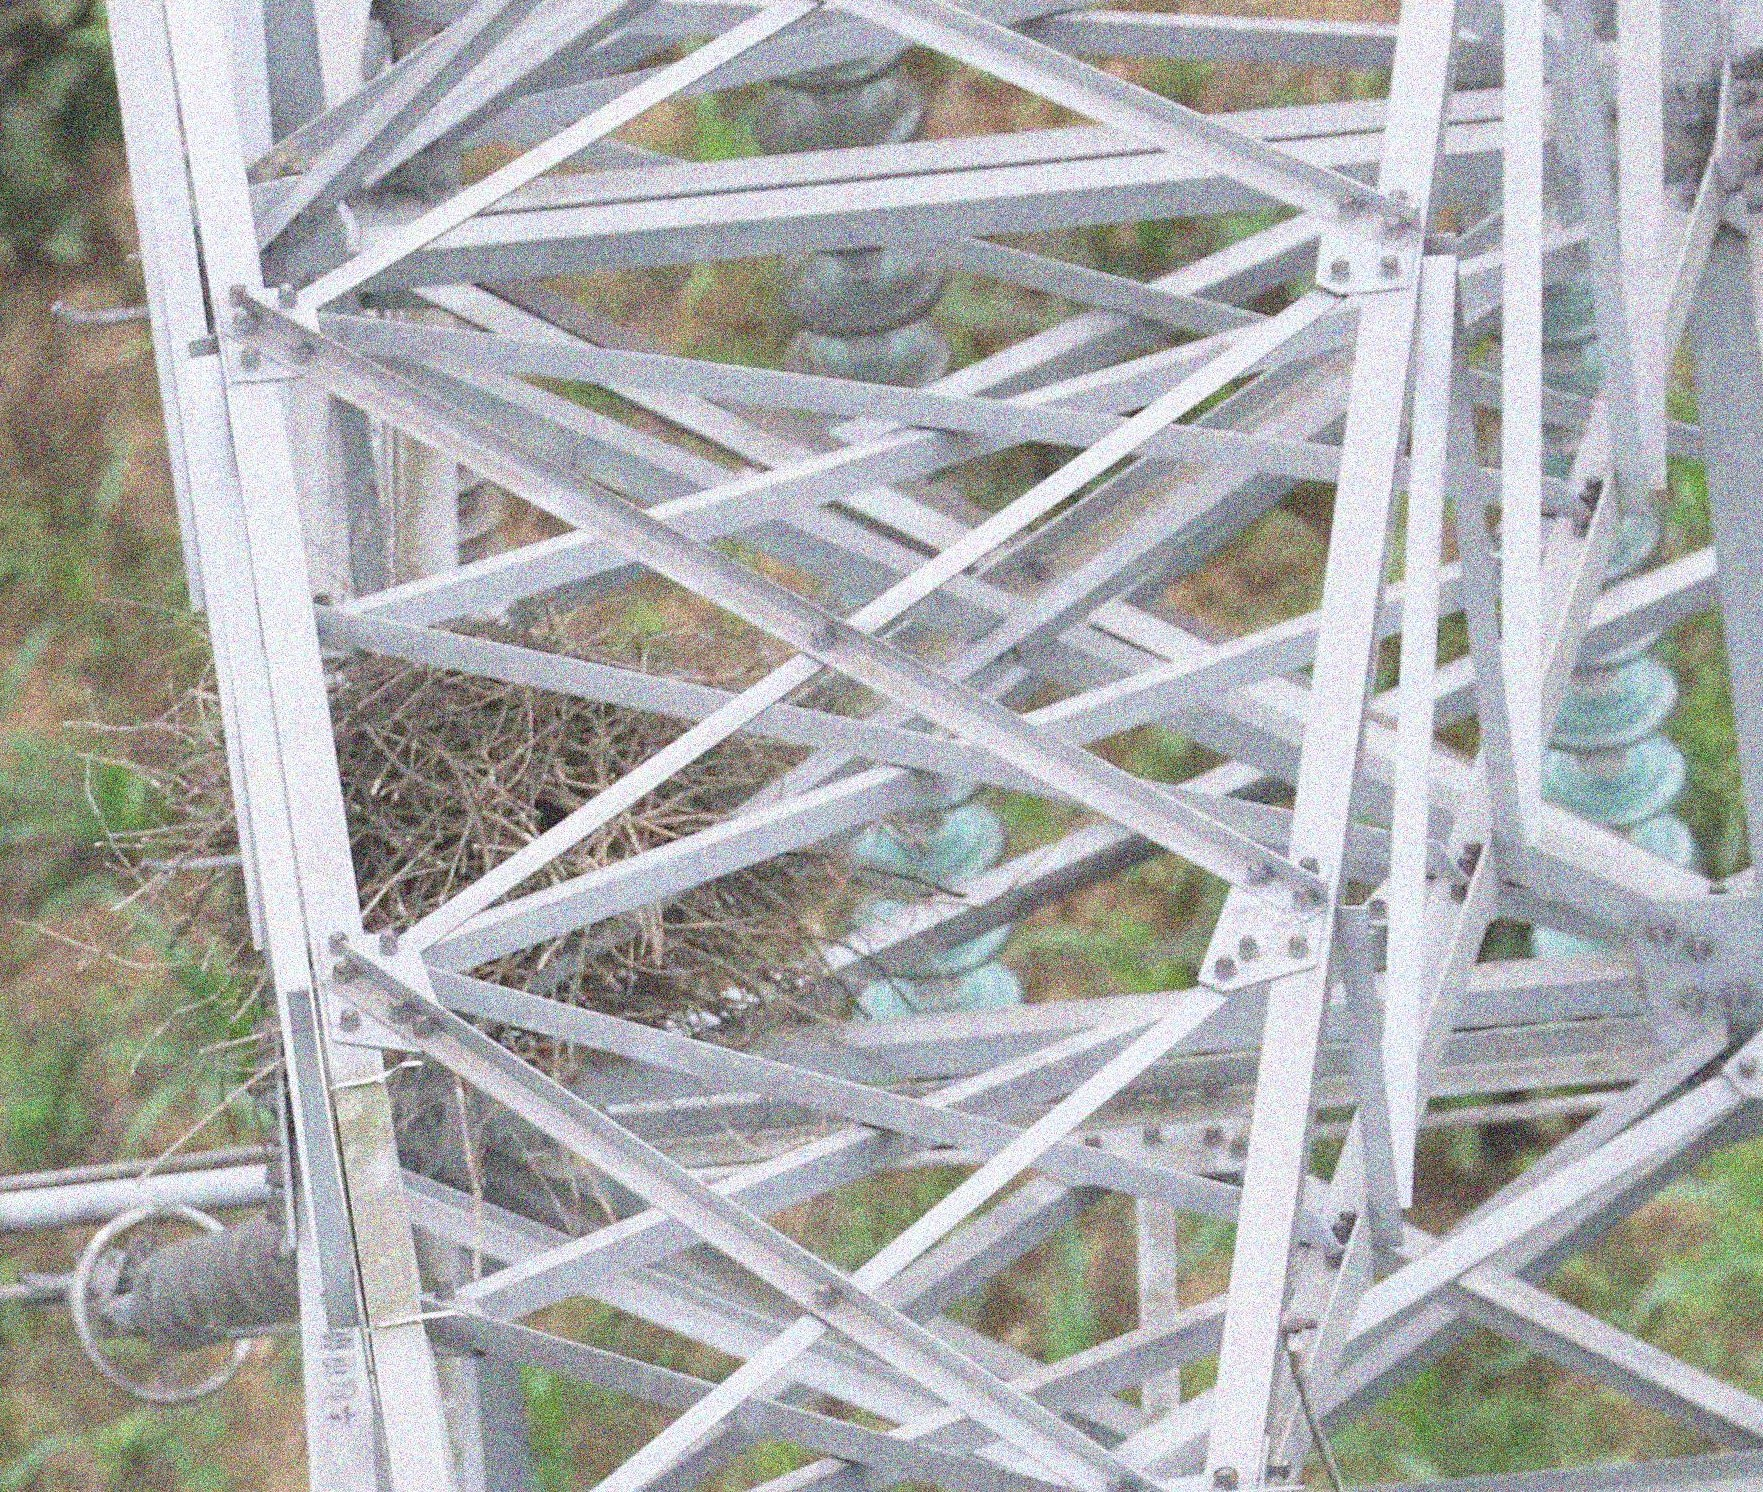niaowo: (144, 620, 836, 1058)
